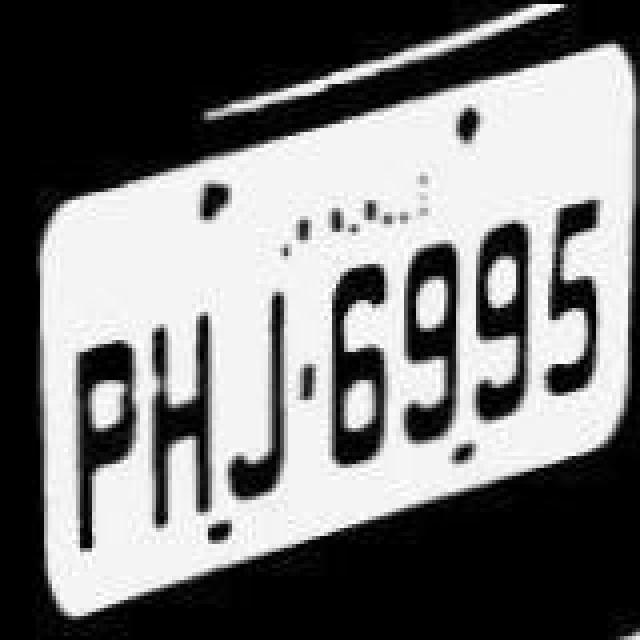5: (532, 194, 612, 398)
6: (322, 244, 406, 476)
9: (460, 218, 540, 430), (390, 244, 466, 448)
H: (118, 276, 206, 528)
J: (198, 256, 286, 508)
P: (50, 300, 130, 556)
